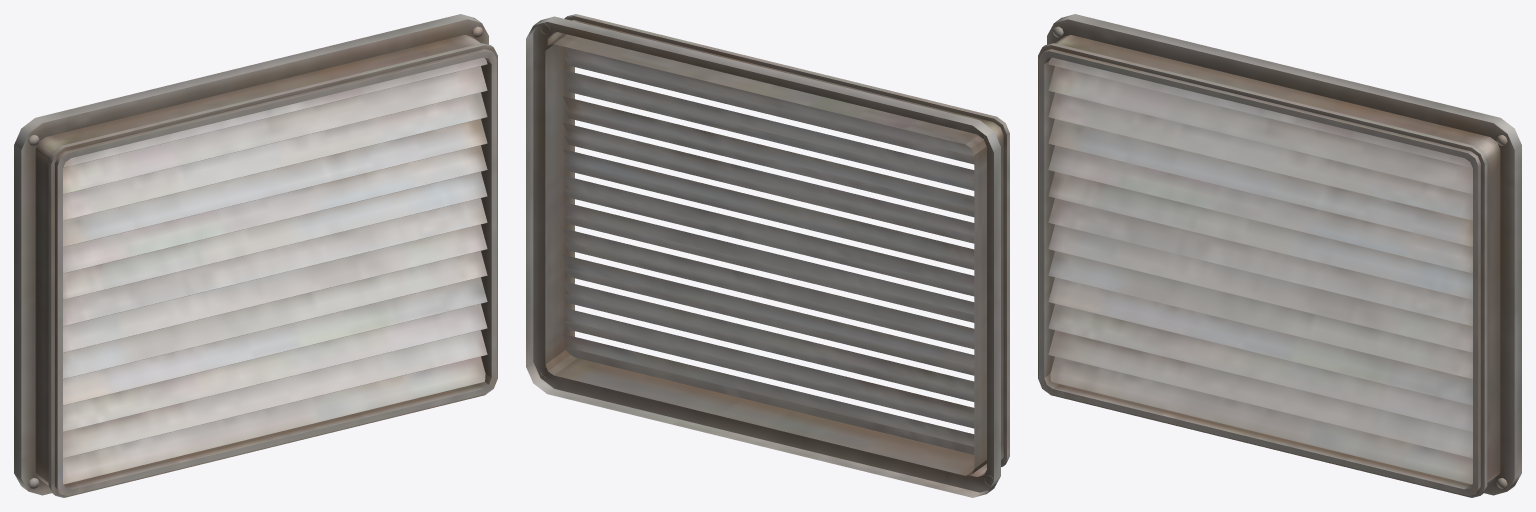
Rendered from duct_vent.glb.
3 renders of one model, left to right at view 1: azimuth 30°, elevation 25°; view 2: azimuth 150°, elevation 25°; view 3: azimuth 330°, elevation 25°, orthographic.
Visible parts, largest first — view 1: duct_vent; view 2: duct_vent; view 3: duct_vent.
Part boxes in pixels (box(x1,y1,x2,y2)): duct_vent: box(14, 14, 497, 497); duct_vent: box(526, 14, 1009, 497); duct_vent: box(1038, 14, 1521, 497).
Bounding box in the file's own units: 0.5521 × 0.42 × 0.0603.
Materials: 1 (1 with a texture image).
